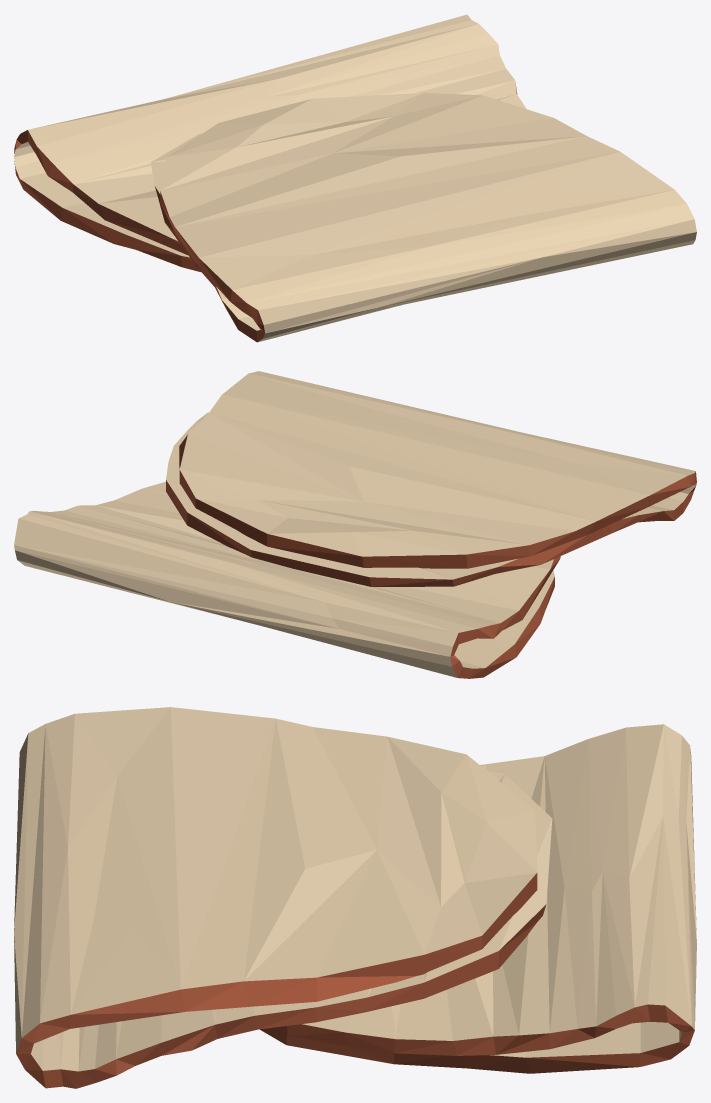
Rendered from turkey.fbx.
The picture shows the model from 3 angles, top to bottom: view 1: azimuth 30°, elevation 25°; view 2: azimuth 150°, elevation 25°; view 3: azimuth 270°, elevation 25°; orthographic projection. The views are drawn at different scales.
Visible parts, largest first — view 1: Turkey 2; view 2: Turkey 2; view 3: Turkey 2.
Part boxes in pixels (box(x1,y1,x2,y2)): Turkey 2: box(14, 14, 696, 342); Turkey 2: box(14, 371, 696, 678); Turkey 2: box(14, 707, 696, 1088).
Bounding box in the file's own units: 103 × 14.85 × 96.98.
